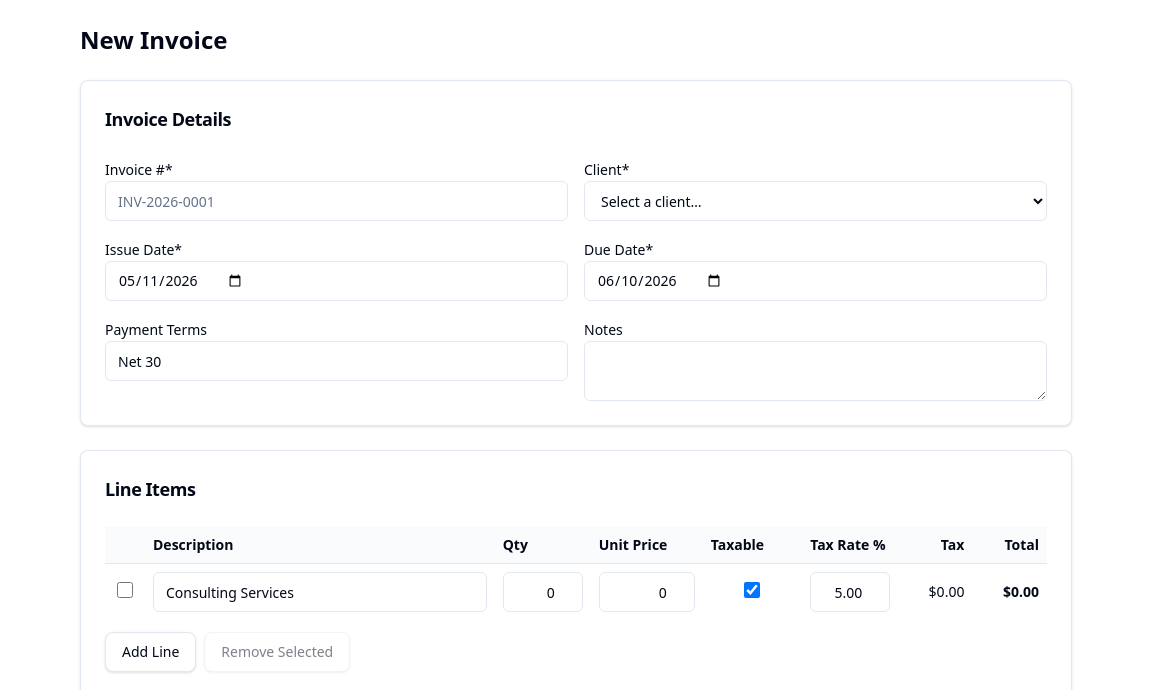
Scenario: InvoiceForm (NewInvoice) › Add Line appends a new editable row
The image size is (1152, 690).
Expected: the heading "Line Items" is shown, [105,477,195,501]
Expected: the checkbox named "Select line 1" is shown, [117,582,133,598]
What coordinates should you click on to do the following:
click the button "Add Line"
I would click on:
 (151, 652)
Its box is [105,632,196,672].
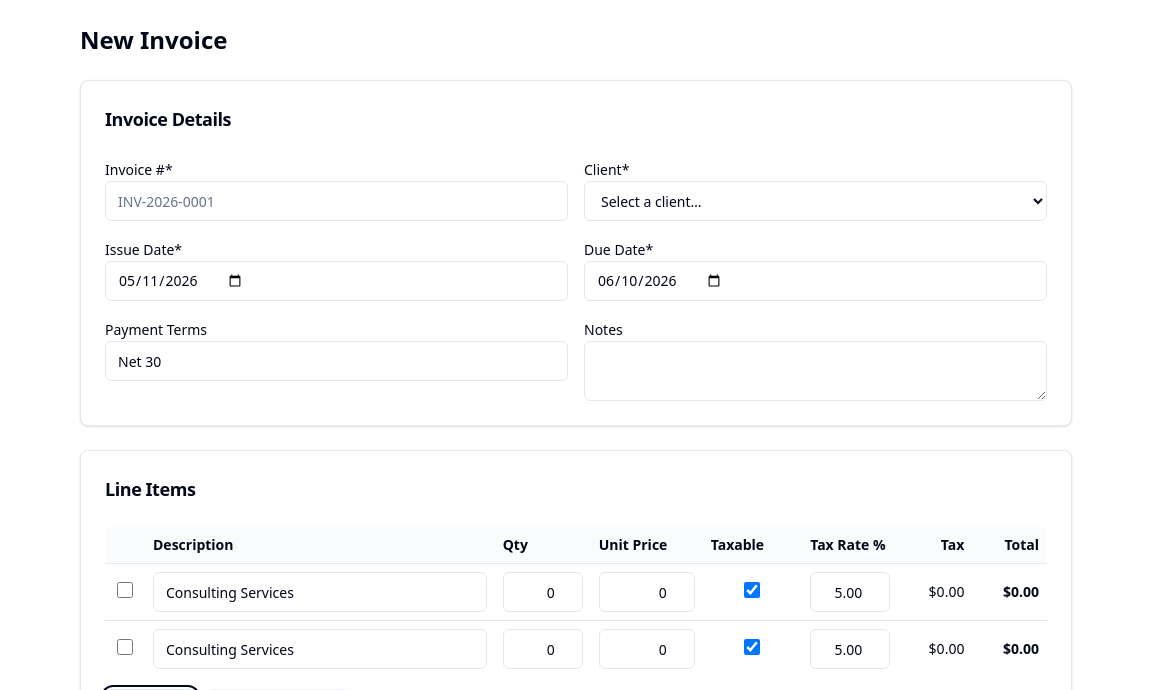
Now the checkbox named "Select line 2" is shown, box [117,638,133,654]
